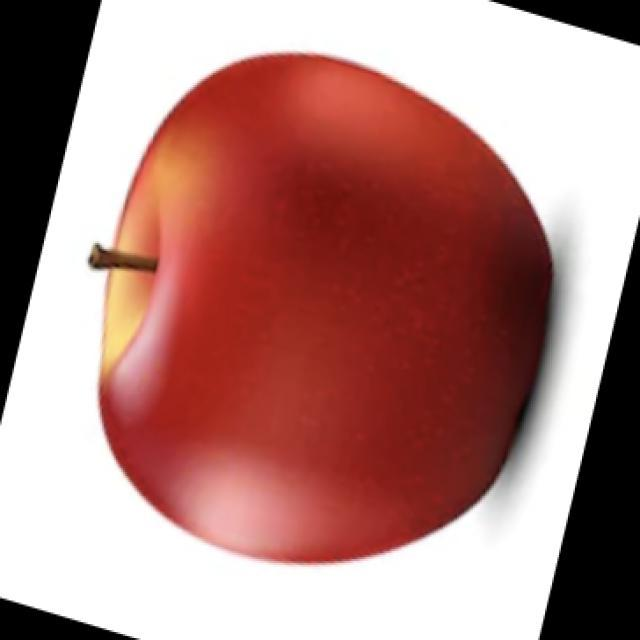Fresh Apple: (87, 45, 565, 592)
